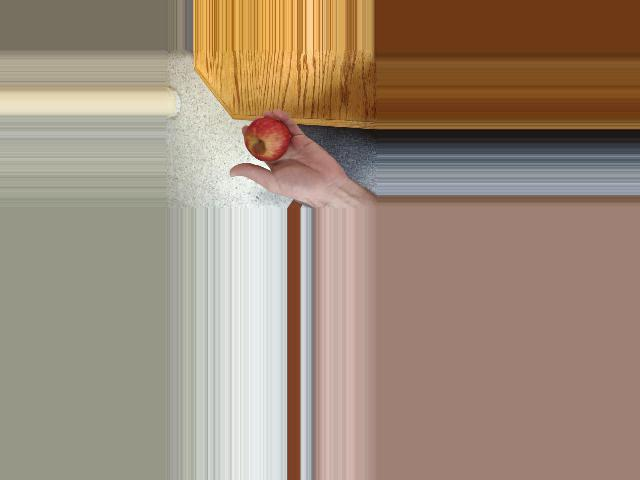apple: (243, 117, 295, 165)
